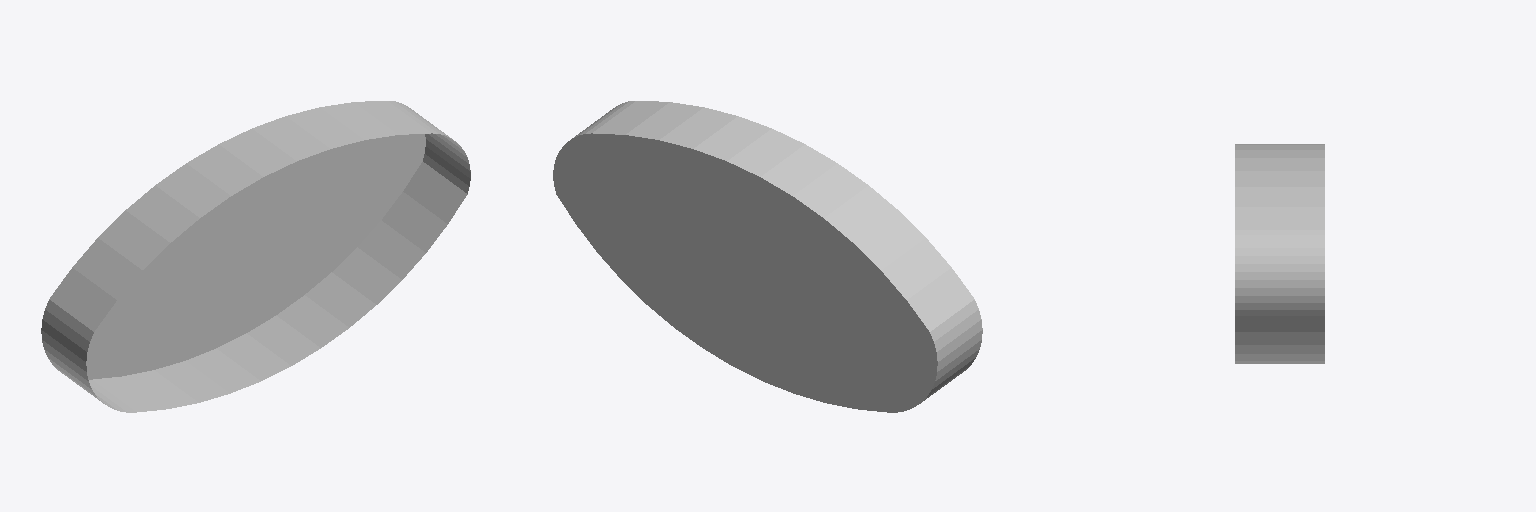
The model's file is original-23.obj.
The picture shows the model from 3 angles: view 1: azimuth 30°, elevation 25°; view 2: azimuth 150°, elevation 25°; view 3: azimuth 270°, elevation 25°; orthographic projection.
Visible parts, largest first — view 1: #ID143; view 2: #ID143; view 3: #ID143.
Boxes of the visible parts, box(x1,y1,x2,y2) form: #ID143: box(41, 101, 470, 412); #ID143: box(553, 101, 982, 412); #ID143: box(1235, 144, 1324, 363).
Size of the model in its own units: 0.1628 by 0.09 by 0.033.